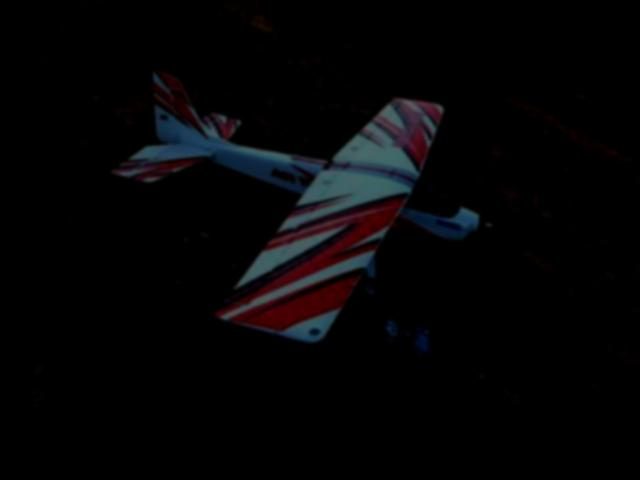uav: (55, 18, 536, 391)
